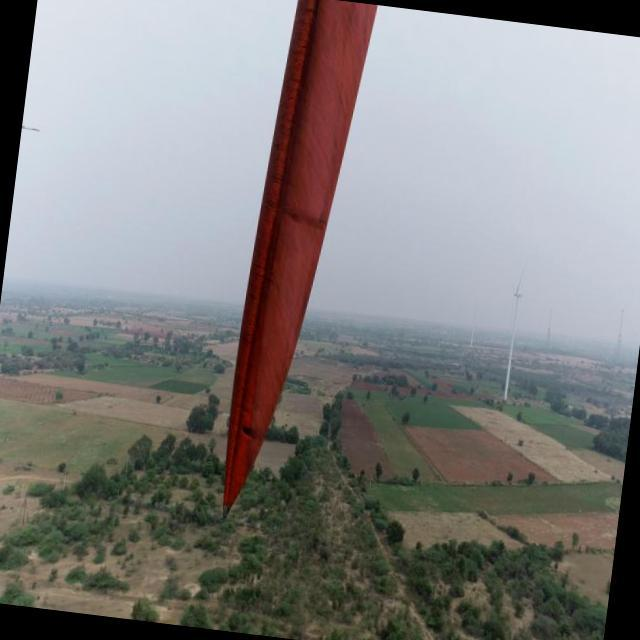Dirt: (224, 0, 381, 516)
Pin Hole: (241, 422, 260, 443)
